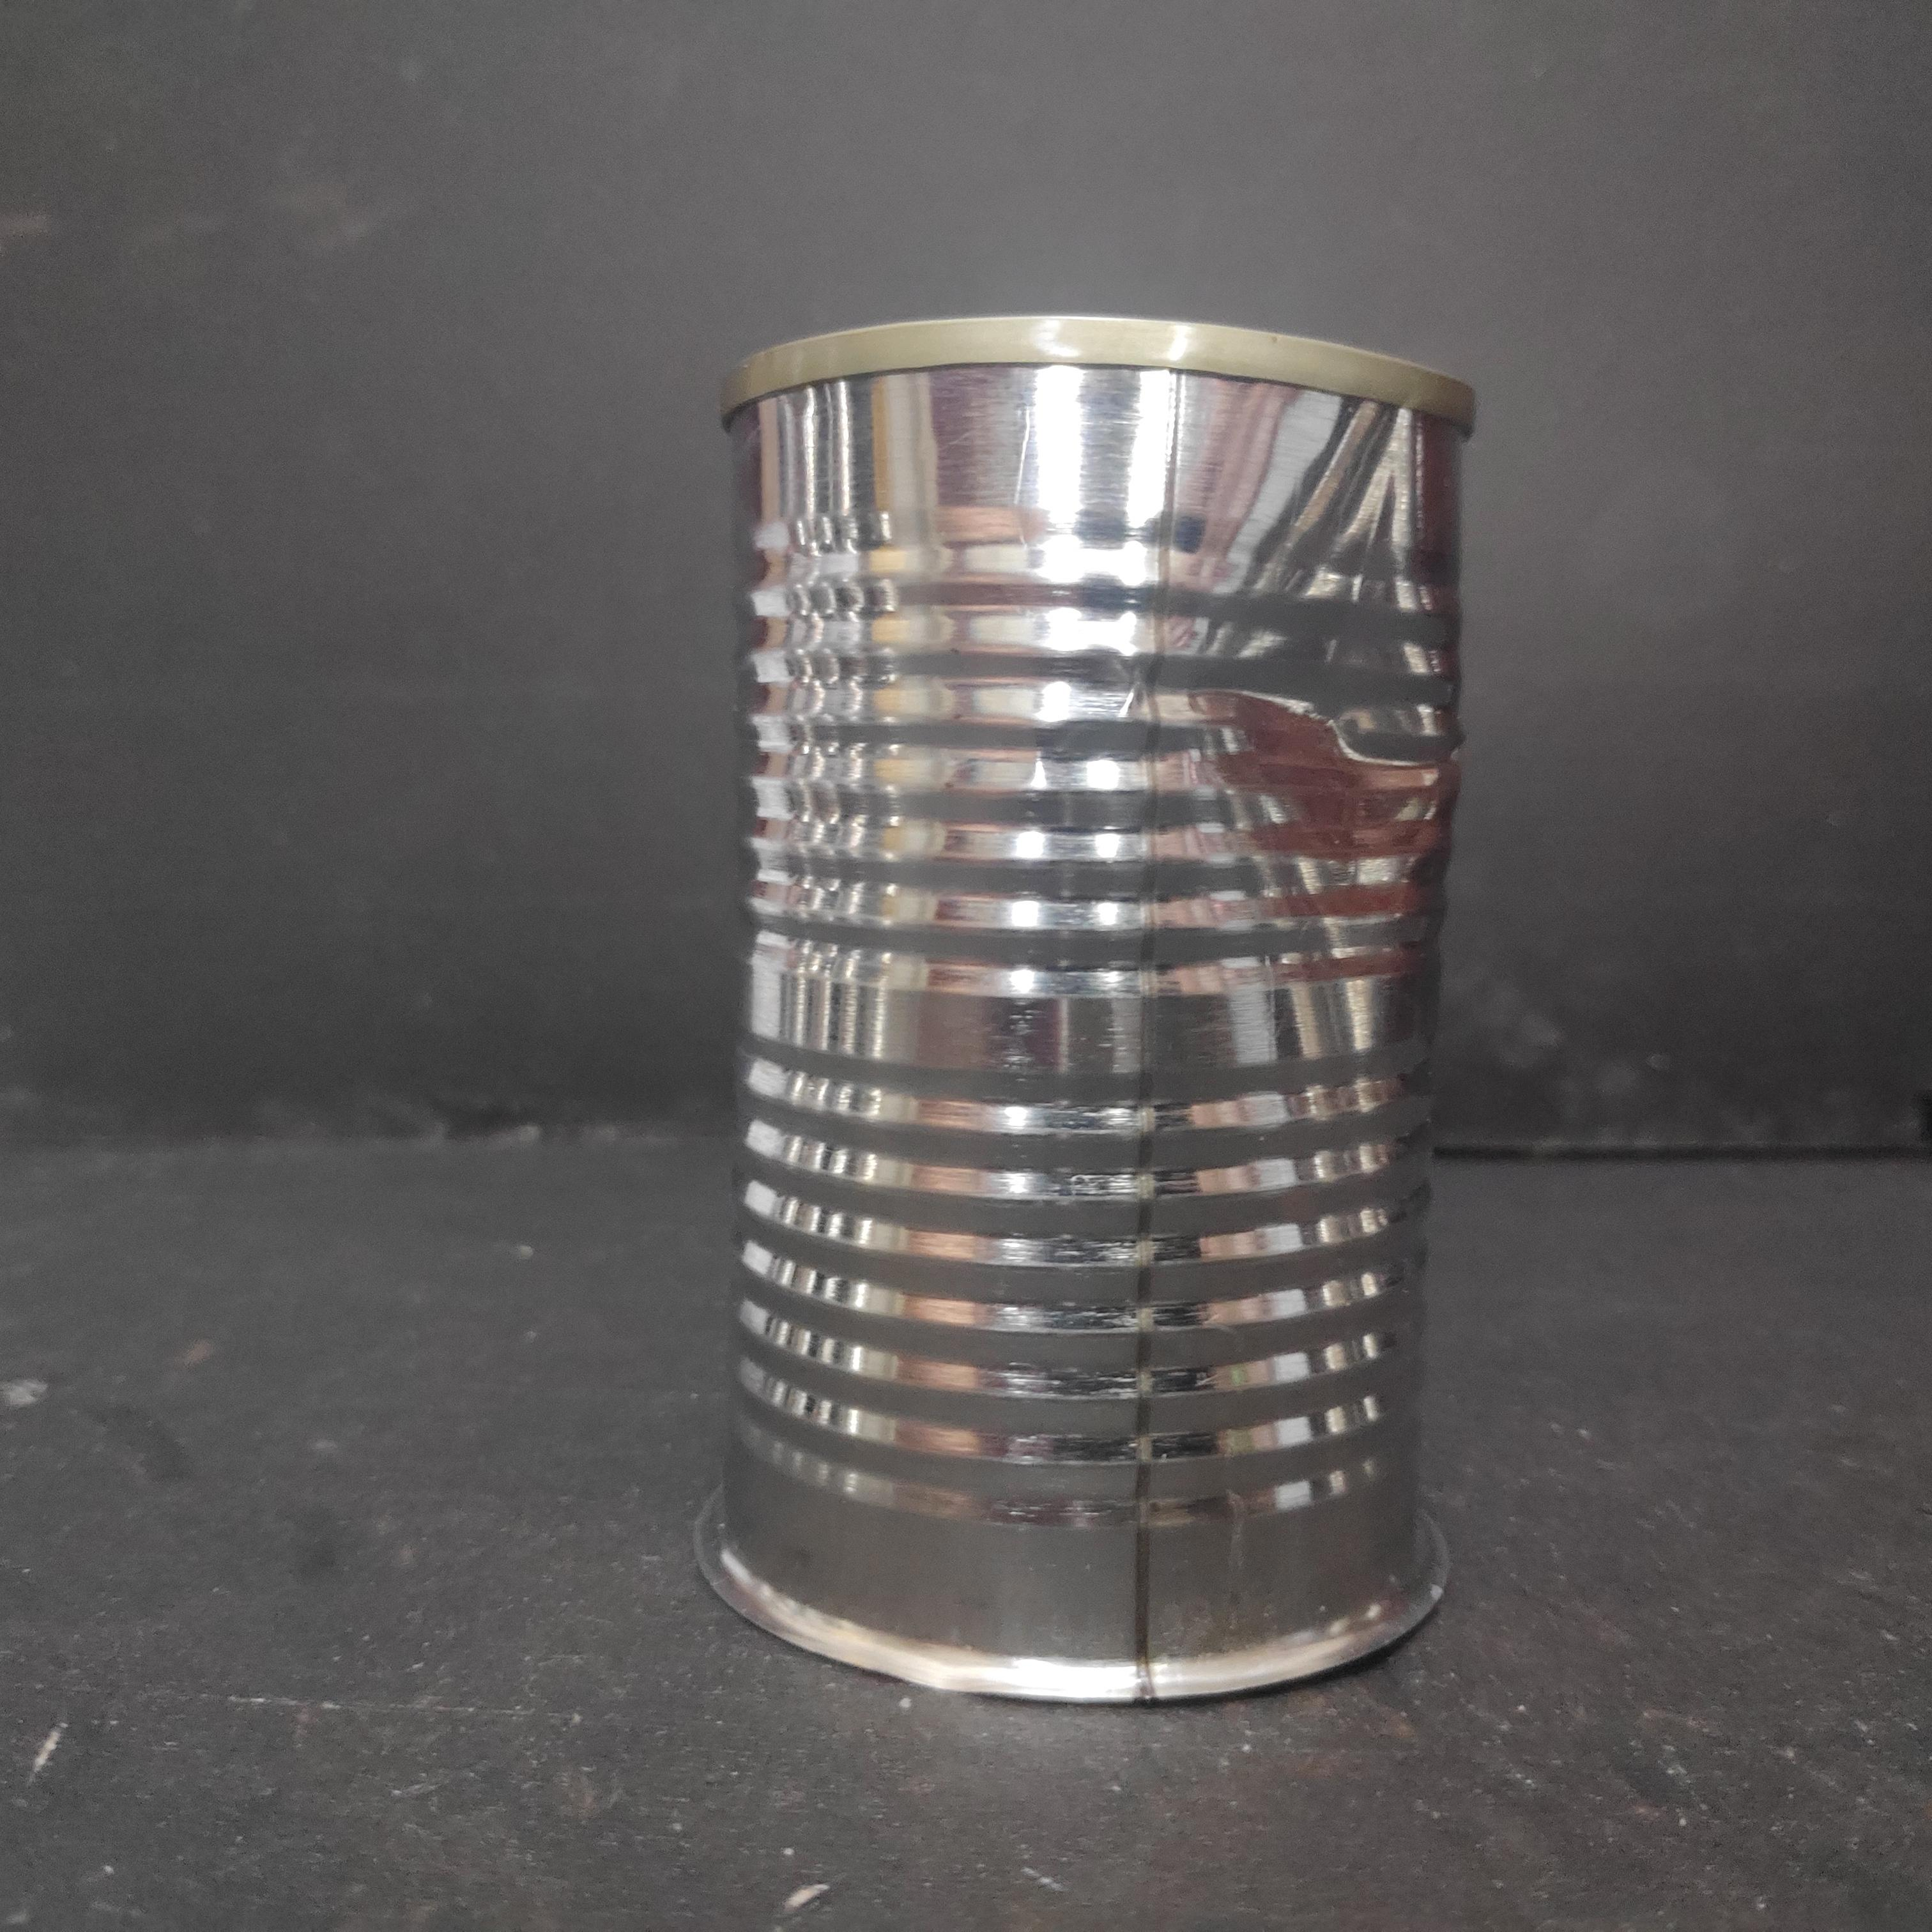Minor Defect: (708, 297, 1479, 1723)
